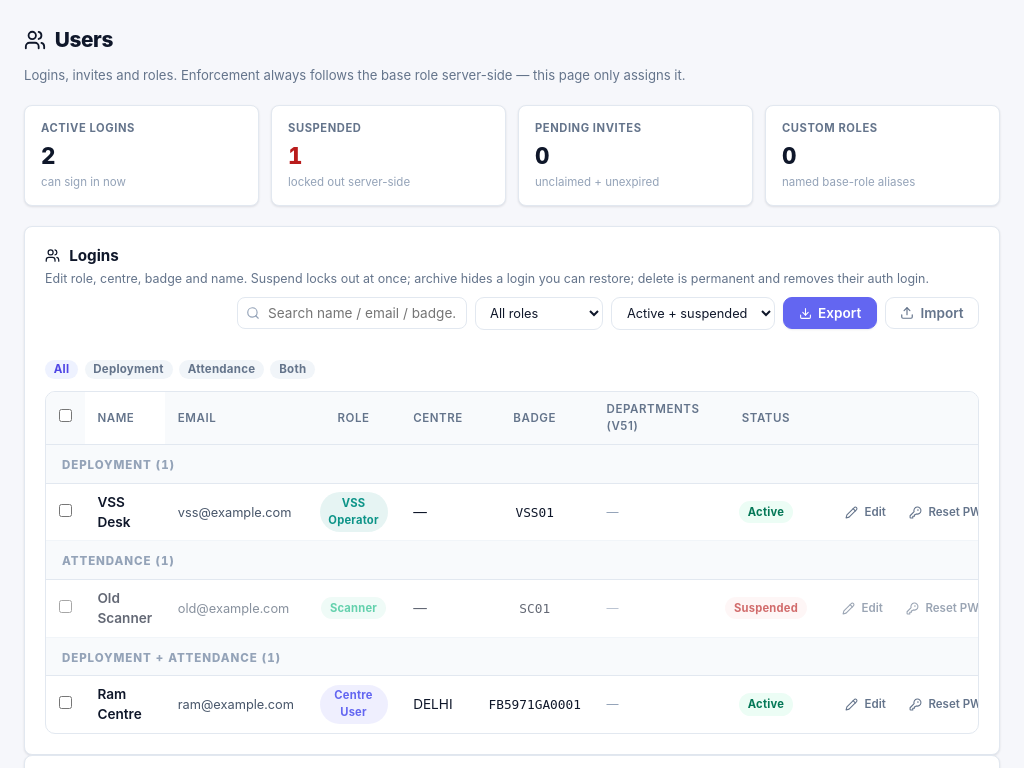
Test: UsersPage — phase group filter › filters to the deployment group (vss_operator fixture)
The image size is (1024, 768).
Expected: the text "Active logins" is shown, [41,121,135,135]
Click the button "Deployment": (128, 370) [84,360,172,379]
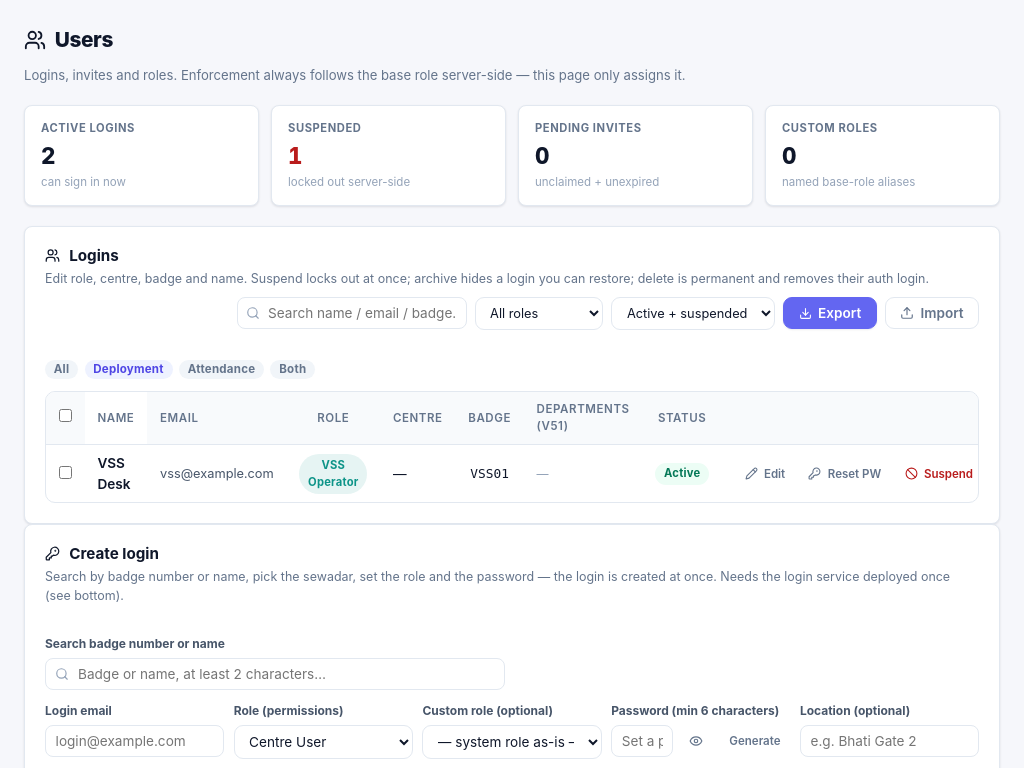
Expected: the text "VSS Desk" is shown, [85,445,147,502]
Expected: the text "Ram Centre" is gone
Expected: the text "Old Scanner" is gone
